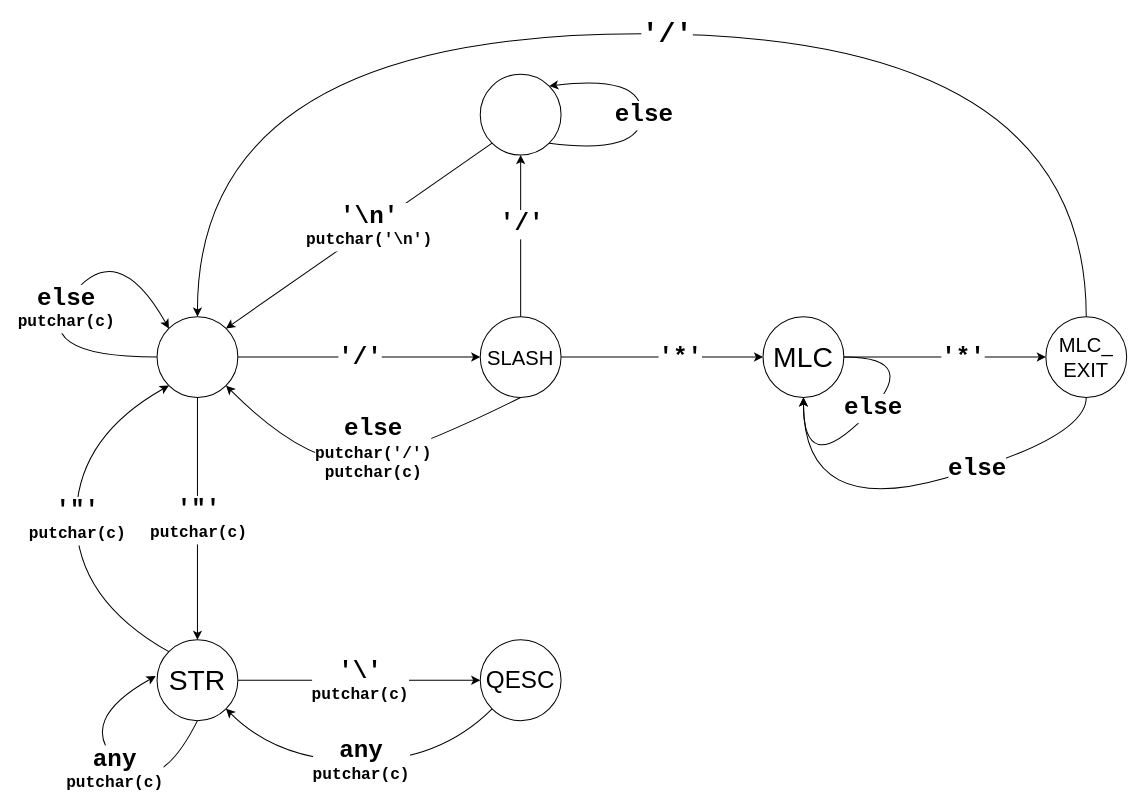
Image size: 1144x811. Some labels were removed from this diagram. Here are the shapes that lost their labels. From the top down, the centre of each, then its label:
point 520,114: SLC
point 197,356: INI
